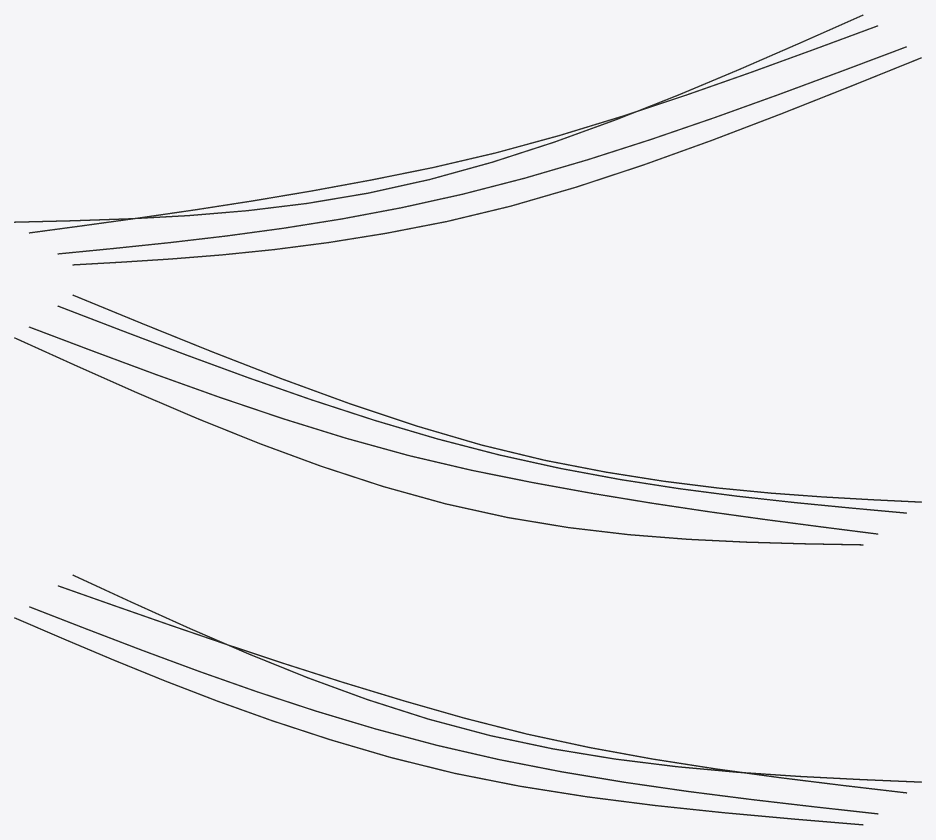
Rendered from TelephoneWires.FBX.
The picture shows the model from 3 angles, top to bottom: view 1: azimuth 30°, elevation 25°; view 2: azimuth 150°, elevation 25°; view 3: azimuth 330°, elevation 25°; orthographic projection.
Parts seen in each view (by area): view 1: TelphoneWires; view 2: TelphoneWires; view 3: TelphoneWires.
Boxes of the visible parts, box(x1,y1,x2,y2) form: TelphoneWires: box(14, 14, 921, 265); TelphoneWires: box(14, 294, 921, 545); TelphoneWires: box(14, 574, 921, 825).
Size of the model in its own units: 687 by 47.11 by 84.31.
